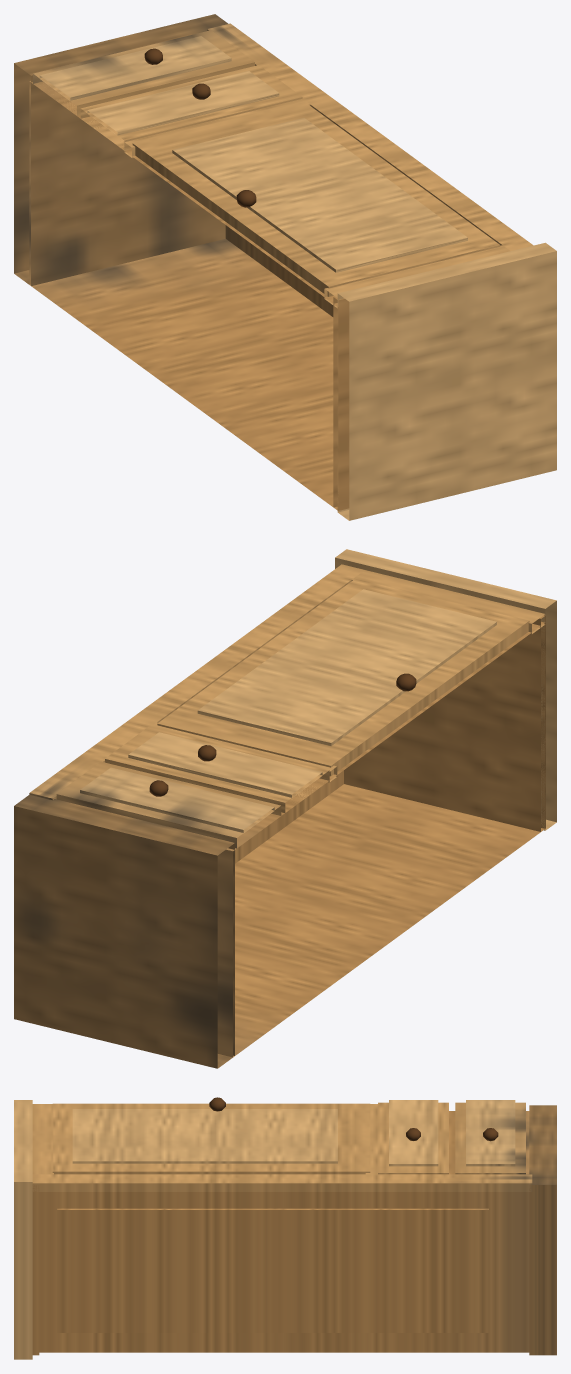
File: section-3.obj
3 renders of one model, top to bottom at view 1: azimuth 30°, elevation 25°; view 2: azimuth 150°, elevation 25°; view 3: azimuth 270°, elevation 25°, orthographic. The views are drawn at different scales.
Bounding box in the file's own units: 0.63 × 0.6729 × 1.76.
1 material, 1 textured.
